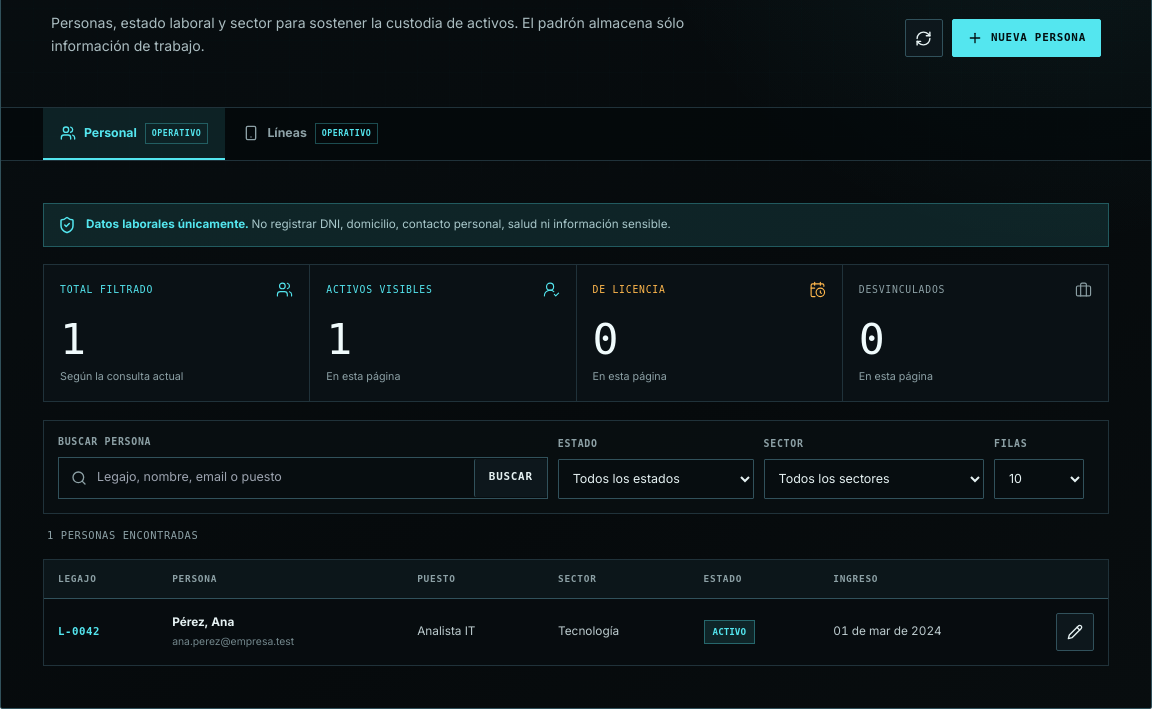
Scenario: ItStaffPage › abre el resumen desde la fila con custodia, línea y sector
(page scrolled)
Click the button named "Ver resumen de Ana Pérez" at (203, 622), box [172,614,234,631]
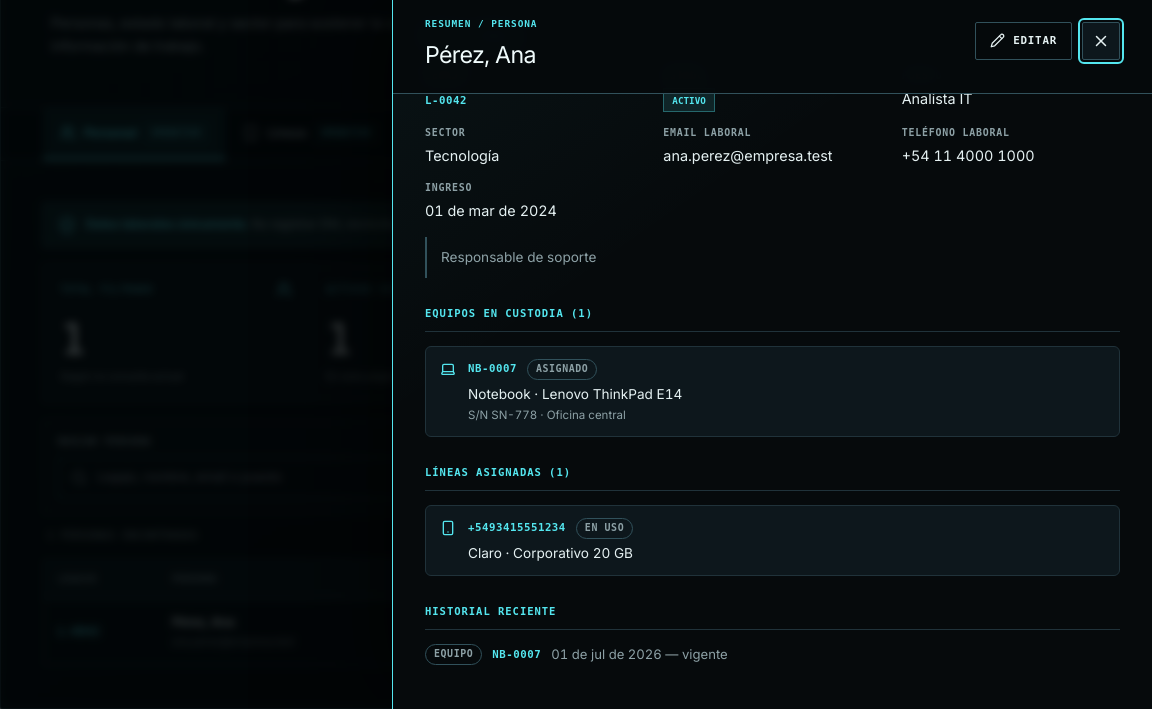
Expected: the heading "Equipos en custodia (1)" is shown, [425,306,1120,332]
Expected: the text "NB-0007" next to "Asignado" is shown, [468,362,517,375]
Expected: the text "Notebook · Lenovo ThinkPad E14" is shown, [468,384,682,404]
